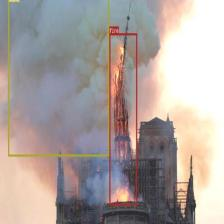fire: (109, 33, 137, 205)
smoke: (8, 0, 108, 156)
